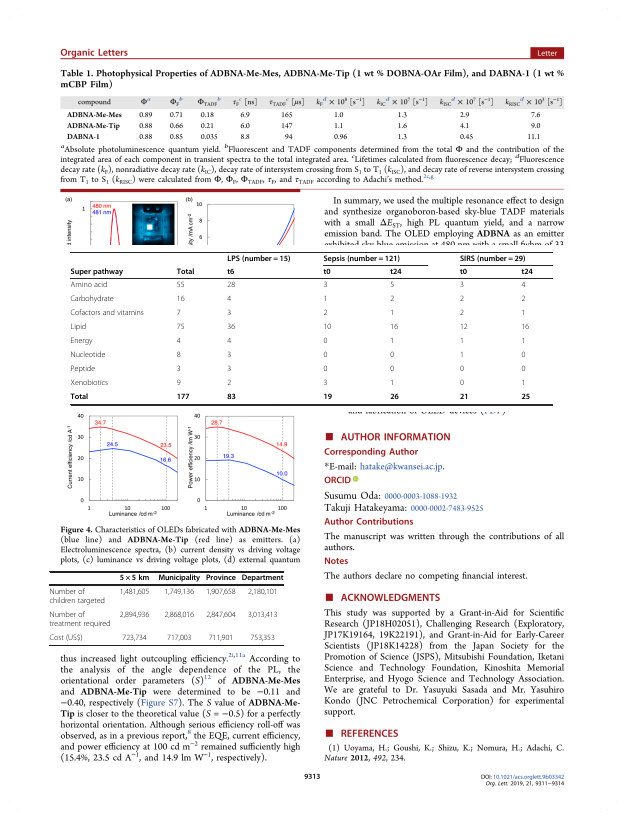borderless: (69, 250, 552, 404), (48, 570, 284, 645)
cell: (49, 610, 111, 628), (49, 587, 106, 605), (70, 308, 145, 318), (322, 254, 401, 263), (459, 254, 526, 263), (226, 254, 291, 263), (70, 267, 124, 277), (70, 294, 115, 304), (157, 574, 201, 583), (70, 378, 109, 388), (241, 574, 284, 583), (70, 280, 108, 290), (70, 350, 106, 360), (163, 587, 195, 597), (205, 587, 237, 597), (49, 633, 84, 642), (119, 587, 150, 597), (247, 587, 278, 597), (205, 574, 237, 583), (163, 610, 195, 619), (205, 610, 237, 619), (119, 574, 150, 583), (119, 610, 150, 619), (247, 610, 278, 619), (70, 364, 96, 374), (121, 633, 148, 642), (249, 633, 276, 642), (166, 633, 192, 642), (208, 633, 234, 642), (70, 336, 93, 346), (176, 267, 195, 277), (70, 392, 89, 402), (70, 322, 87, 332), (389, 267, 403, 277), (520, 267, 534, 277), (176, 392, 190, 402), (226, 392, 237, 402), (322, 392, 333, 402), (389, 392, 400, 402), (520, 392, 531, 402), (226, 280, 236, 290), (226, 322, 236, 332), (322, 322, 332, 332), (389, 322, 399, 332), (459, 322, 469, 332), (520, 322, 530, 332), (459, 392, 469, 402), (226, 267, 235, 277), (322, 267, 331, 277), (459, 267, 468, 277), (176, 280, 185, 290), (176, 294, 185, 304), (176, 322, 185, 332), (322, 280, 328, 290), (389, 280, 395, 290), (459, 280, 465, 290), (520, 280, 526, 290), (226, 294, 232, 304), (322, 294, 328, 304), (389, 294, 395, 304), (459, 294, 465, 304), (520, 294, 526, 304), (176, 308, 182, 318), (226, 308, 232, 318), (322, 308, 328, 318), (389, 308, 395, 318), (459, 308, 465, 318), (520, 308, 526, 318), (176, 336, 182, 346), (226, 336, 232, 346), (322, 336, 328, 346), (389, 336, 395, 346), (459, 336, 465, 346), (520, 336, 526, 346), (176, 350, 182, 360), (226, 350, 232, 360), (322, 350, 328, 360), (389, 350, 395, 360), (459, 350, 465, 360), (520, 350, 526, 360), (176, 364, 182, 374), (226, 364, 232, 374), (322, 364, 328, 374), (389, 364, 395, 374), (459, 364, 465, 374), (520, 364, 526, 374), (176, 378, 182, 388), (226, 378, 232, 388), (322, 378, 328, 388), (389, 378, 395, 388), (459, 378, 465, 388), (520, 378, 526, 388)
